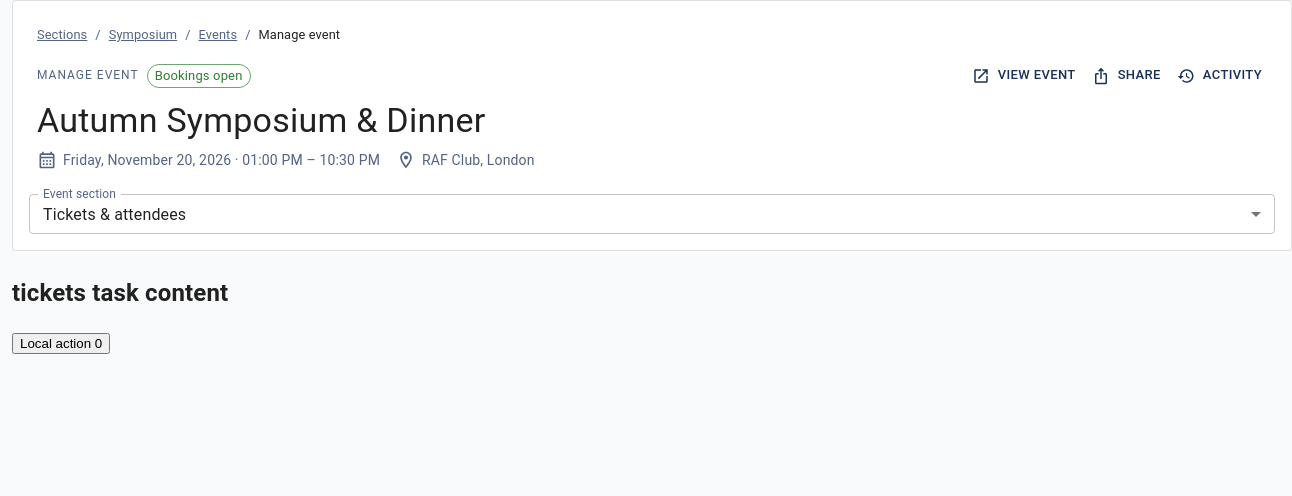
Manage Event workspace › uses a labelled task selector on narrow screens and navigates through the URL
The width and height of the screenshot is (1292, 496).
What coordinates should you click on to do the following:
click the dropdown named "Event section"
I would click on:
 (115, 214)
Its box is [43,205,186,224].
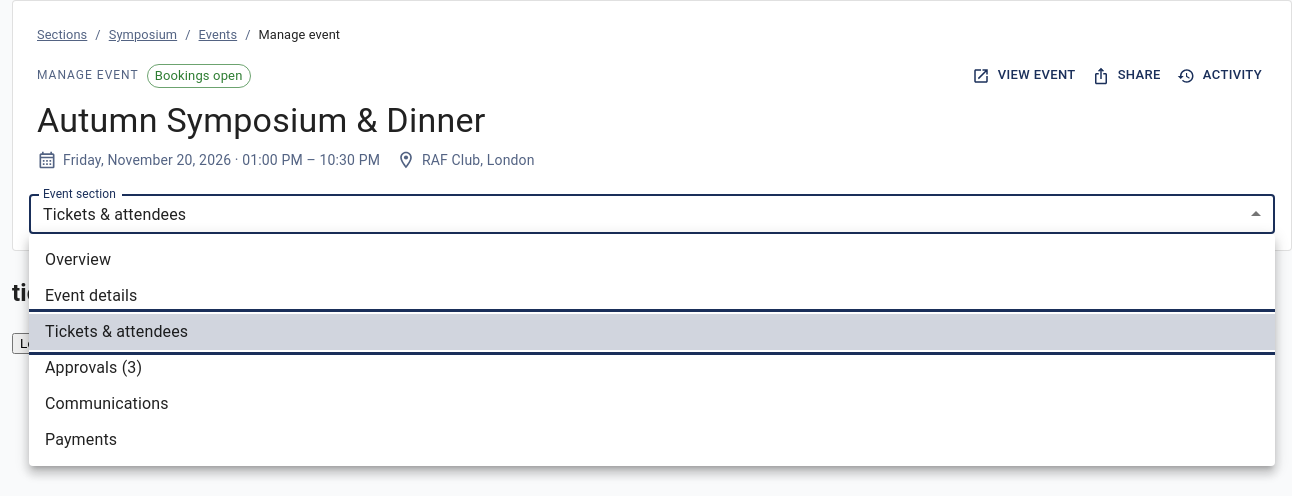
What coordinates should you click on to do the following:
click the option "Approvals (3)"
I would click on:
 (94, 368)
Its box is [45,358,142,377].
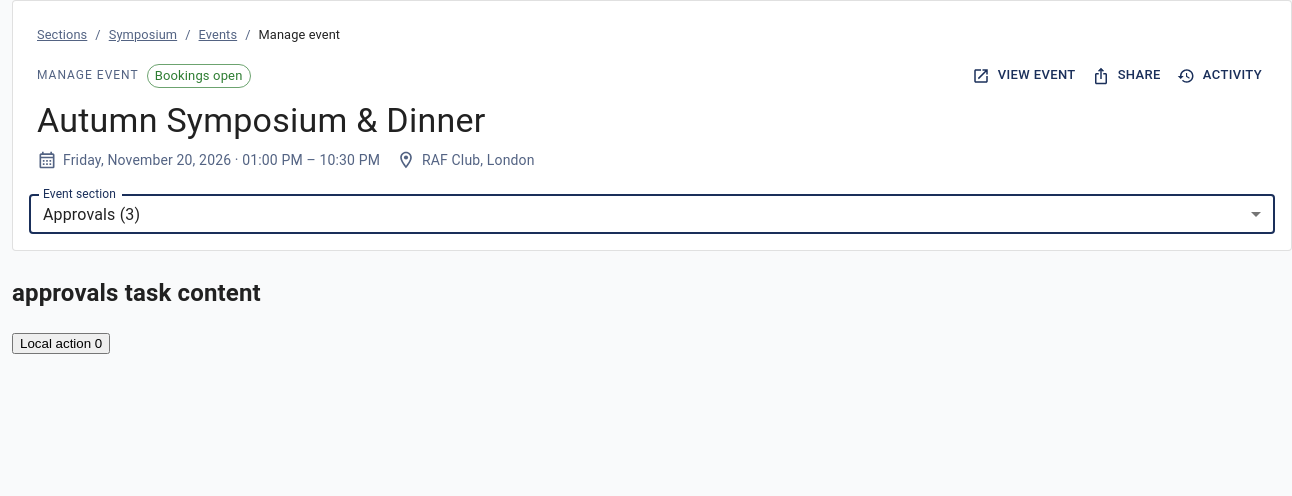
Expected: the dropdown named "Event section" reads "Approvals (3)", [43,205,140,224]
Expected: the heading "approvals task content" is shown, [12,279,261,307]
